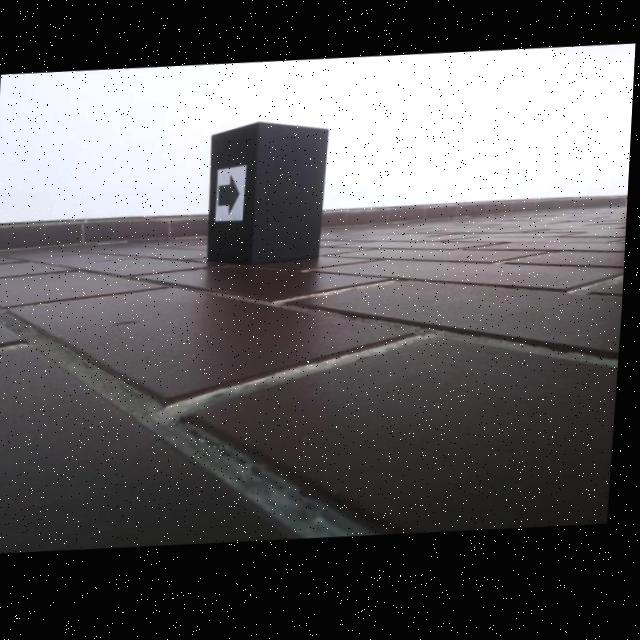RIGHT: (220, 175, 242, 220)
